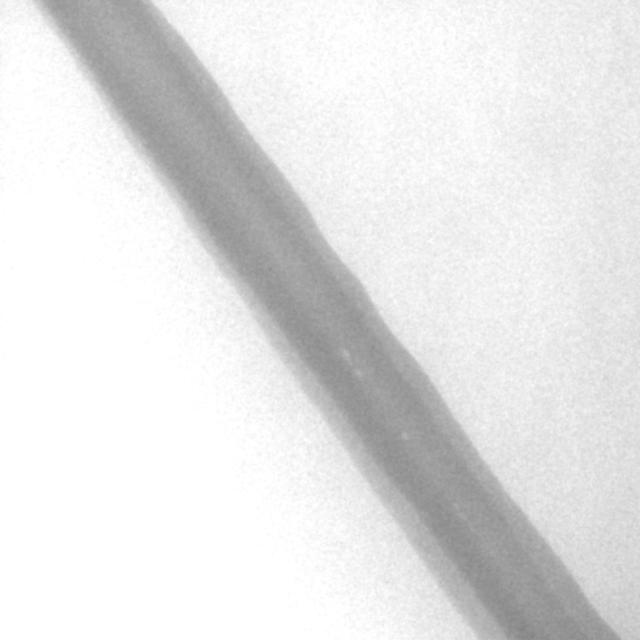air hole: (340, 347, 351, 362), (353, 366, 364, 380), (399, 430, 409, 442)
